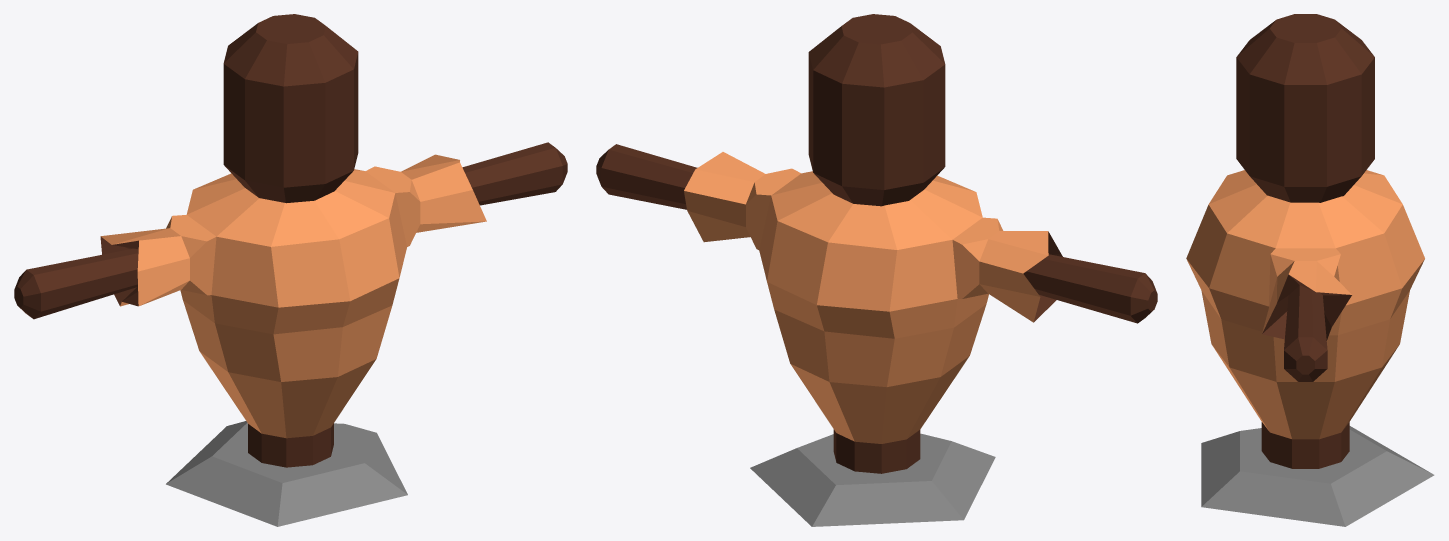
The model's file is target_dummy.glb.
3 renders of one model, left to right at view 1: azimuth 30°, elevation 25°; view 2: azimuth 150°, elevation 25°; view 3: azimuth 270°, elevation 25°, orthographic.
Parts seen in each view (by area): view 1: Cylinder, Cylinder.001; view 2: Cylinder, Cylinder.001; view 3: Cylinder, Cylinder.001.
Part boxes in pixels (x1,y1,x2,y2): Cylinder: [14, 142, 567, 526]; Cylinder.001: [223, 14, 358, 203]; Cylinder: [596, 144, 1157, 526]; Cylinder.001: [808, 14, 945, 206]; Cylinder: [1186, 170, 1434, 526]; Cylinder.001: [1236, 14, 1374, 202].
Size of the model in its own units: 2.65 by 2.06 by 1.04.
